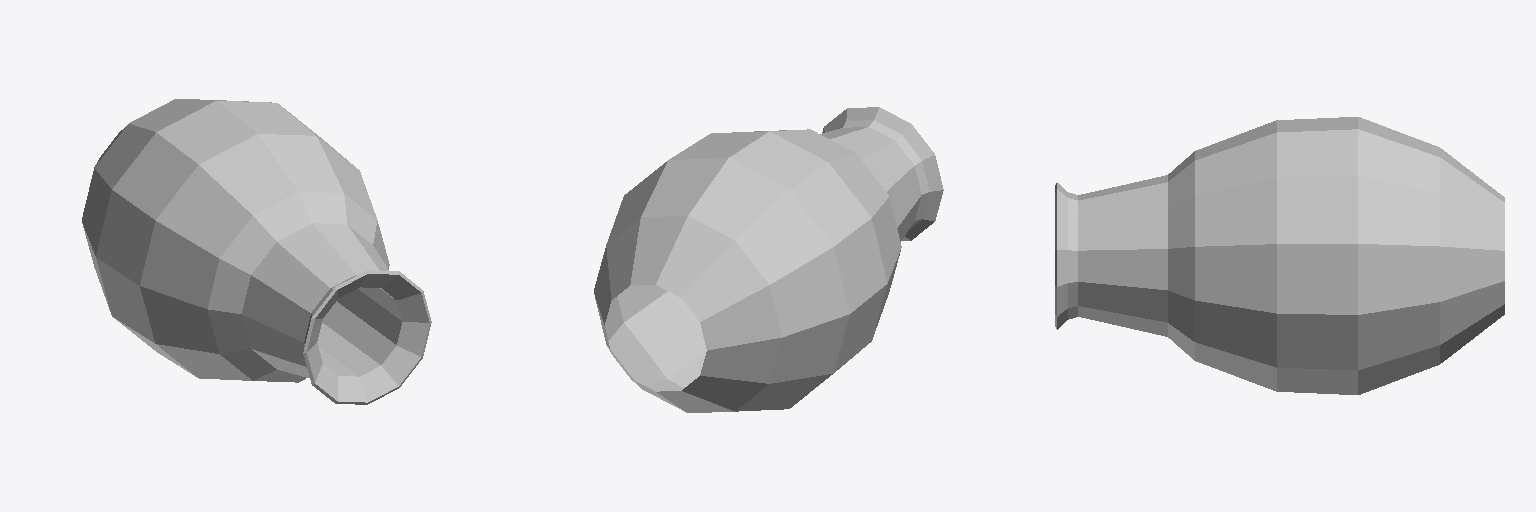
File: f_SmallVase.obj
3 renders of one model, left to right at view 1: azimuth 30°, elevation 25°; view 2: azimuth 150°, elevation 25°; view 3: azimuth 270°, elevation 25°, orthographic.
Visible parts, largest first — view 1: SmallVase; view 2: SmallVase; view 3: SmallVase.
Boxes of the visible parts, x1,y1,x2,y2 form: SmallVase: [82, 99, 431, 404]; SmallVase: [594, 107, 943, 412]; SmallVase: [1055, 117, 1504, 394].
Bounding box in the file's own units: 1.71 × 1.71 × 2.75.